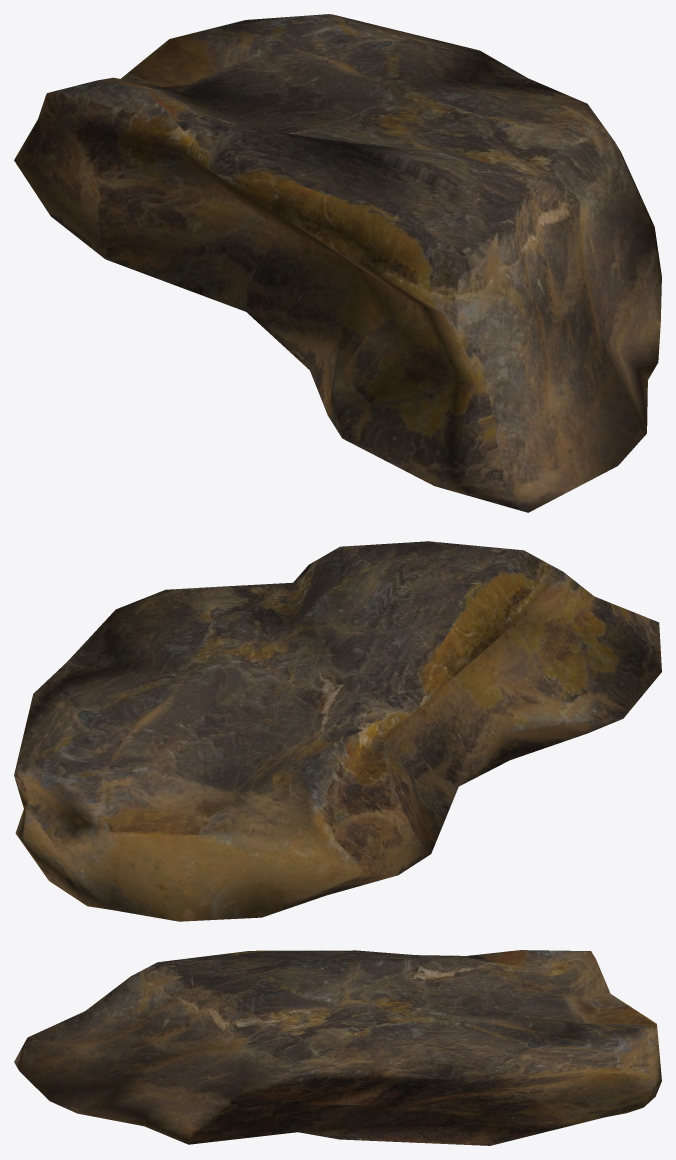
The model's file is rock.glb.
3 views of the same model, one above another, from view 1: azimuth 30°, elevation 25°; view 2: azimuth 150°, elevation 25°; view 3: azimuth 270°, elevation 25° (orthographic). The views are drawn at different scales.
Parts seen in each view (by area): view 1: rock_09_LOD0; view 2: rock_09_LOD0; view 3: rock_09_LOD0.
Boxes of the visible parts, x1=… form: rock_09_LOD0: x1=14, y1=14, x2=661, y2=512; rock_09_LOD0: x1=14, y1=541, x2=661, y2=921; rock_09_LOD0: x1=14, y1=950, x2=661, y2=1145.
Size of the model in its own units: 0.0738 by 0.0321 by 0.1428.
Materials: 1 (1 with a texture image).
